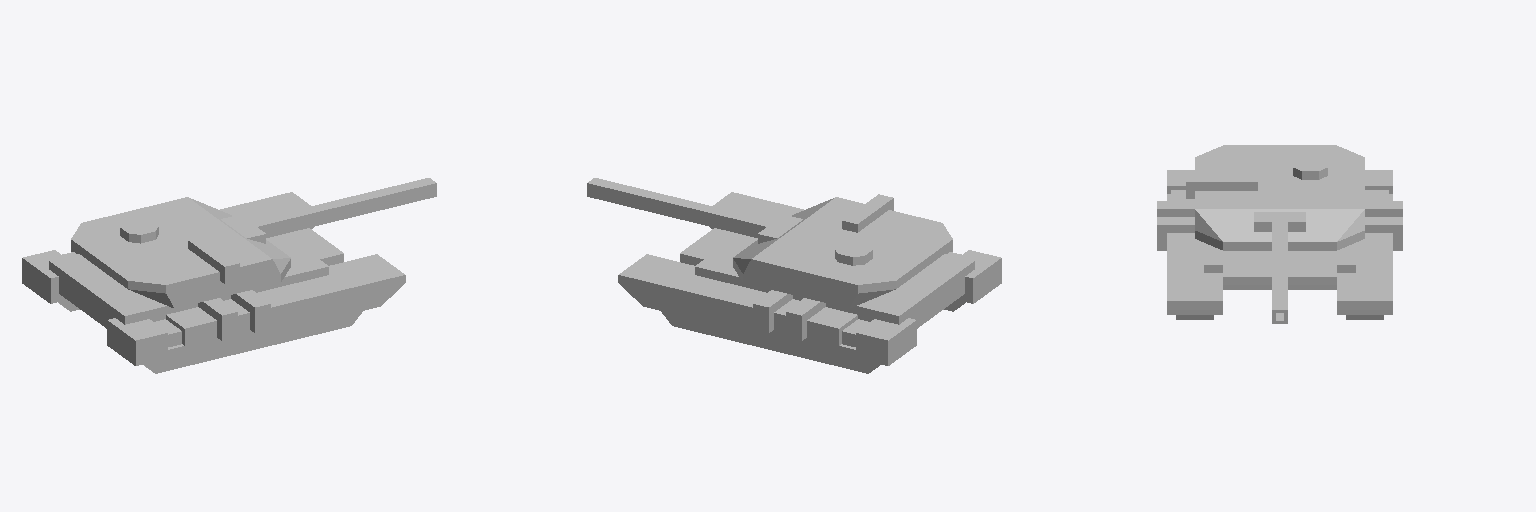
File: Stick.obj
The picture shows the model from 3 angles: view 1: azimuth 30°, elevation 25°; view 2: azimuth 150°, elevation 25°; view 3: azimuth 270°, elevation 25°; orthographic projection.
Parts seen in each view (by area): view 1: Hull_Cube.006, Turret_Cube.004, Barrel_Cube.009; view 2: Hull_Cube.006, Turret_Cube.004, Barrel_Cube.009; view 3: Hull_Cube.006, Turret_Cube.004, Barrel_Cube.009.
Part boxes in pixels (bbox=[...]): Hull_Cube.006: bbox=[22, 192, 405, 373]; Turret_Cube.004: bbox=[71, 197, 290, 308]; Barrel_Cube.009: bbox=[221, 178, 436, 243]; Hull_Cube.006: bbox=[618, 192, 1001, 373]; Turret_Cube.004: bbox=[733, 194, 952, 308]; Barrel_Cube.009: bbox=[587, 178, 802, 243]; Hull_Cube.006: bbox=[1157, 170, 1402, 319]; Turret_Cube.004: bbox=[1186, 145, 1364, 250]; Barrel_Cube.009: bbox=[1254, 212, 1305, 323].
Size of the model in its own units: 2.17 by 0.5 by 1.3.